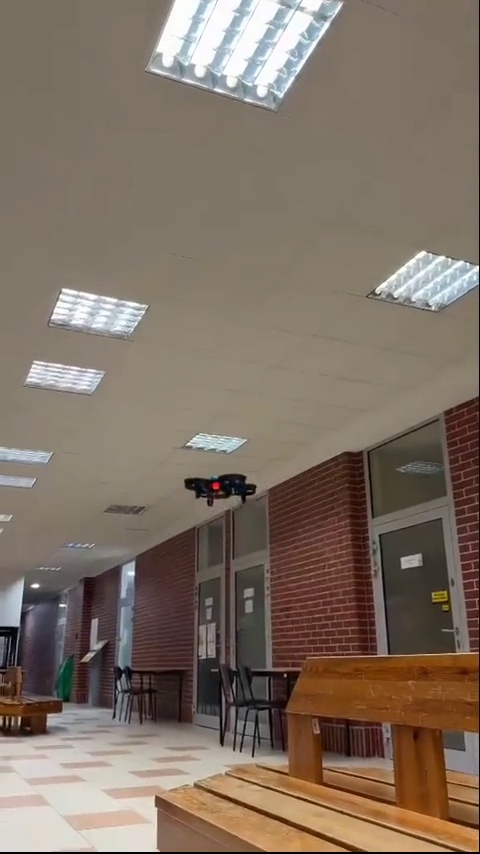drone: (183, 470, 258, 506)
